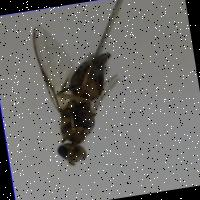Oriental-fruit-fly: (24, 10, 135, 174)
